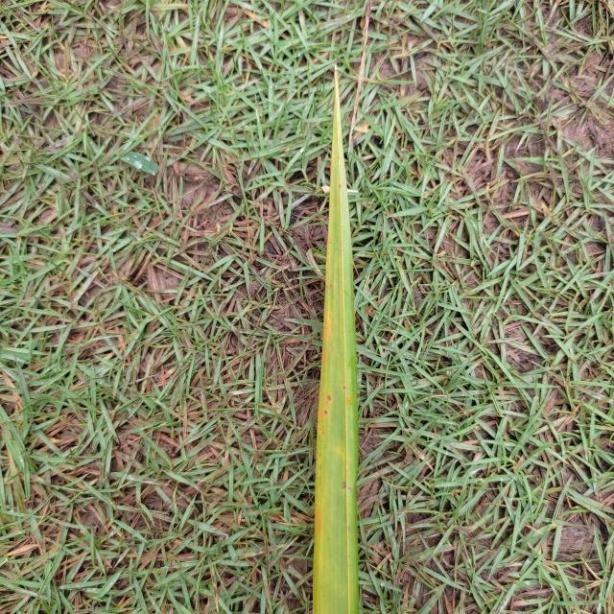nitrogen: (312, 59, 361, 614)
